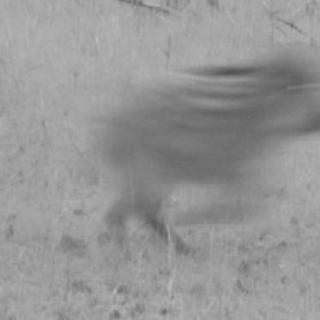Pig: (91, 47, 320, 239)
